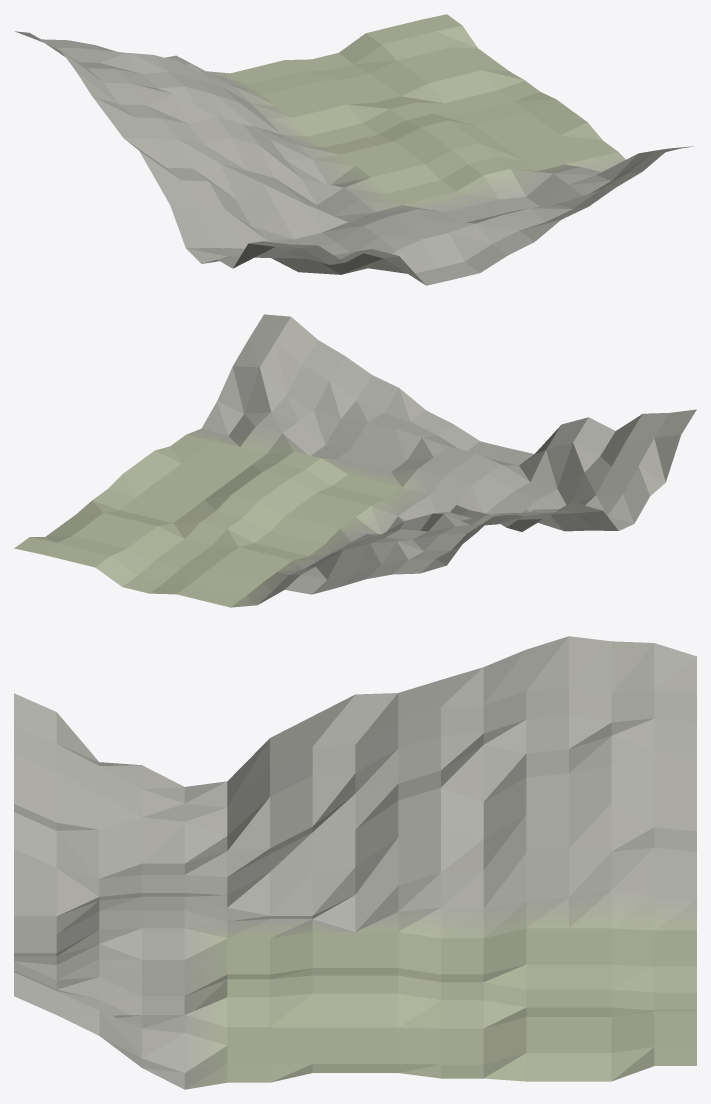
The picture shows the model from 3 angles, top to bottom: view 1: azimuth 30°, elevation 25°; view 2: azimuth 150°, elevation 25°; view 3: azimuth 270°, elevation 25°; orthographic projection. The views are drawn at different scales.
Bounding box in the file's own units: 32 × 8.96 × 32.
